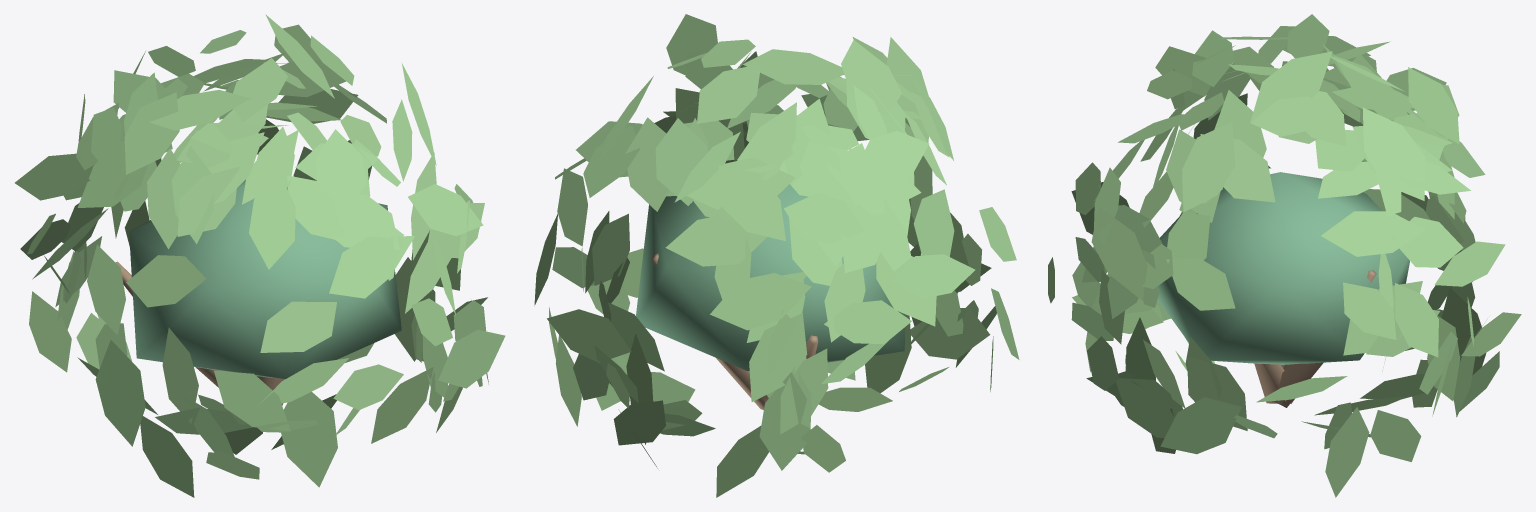
Rendered from bush_C.glb.
3 views of the same model, side by side, from view 1: azimuth 30°, elevation 25°; view 2: azimuth 150°, elevation 25°; view 3: azimuth 270°, elevation 25° (orthographic). The views are drawn at different scales.
Visible parts, largest first — view 1: bush_C; view 2: bush_C; view 3: bush_C.
Part boxes in pixels (bbox=[...]): bush_C: bbox=[15, 14, 505, 497]; bush_C: bbox=[534, 14, 1019, 497]; bush_C: bbox=[1048, 14, 1521, 497].
Bounding box in the file's own units: 0.9462 × 0.8383 × 0.9592.
